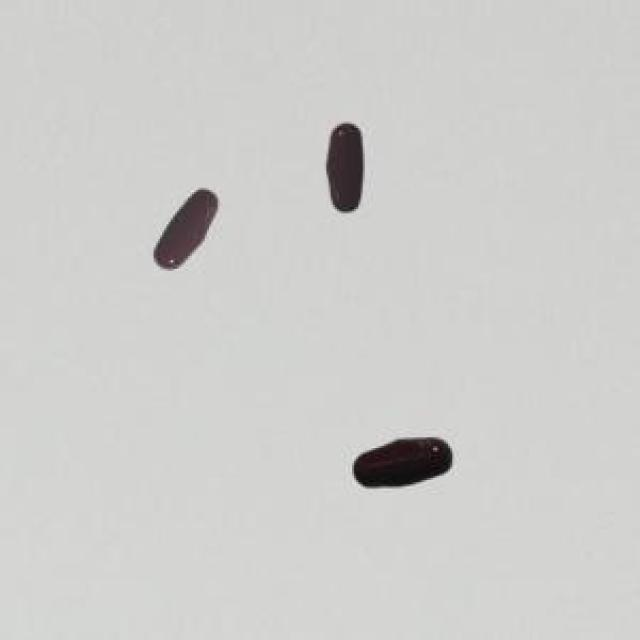DayZinc: (341, 418, 466, 506), (142, 176, 228, 290), (312, 119, 385, 233)
